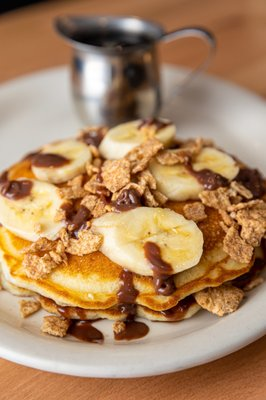pizza: (50, 13, 217, 127)
